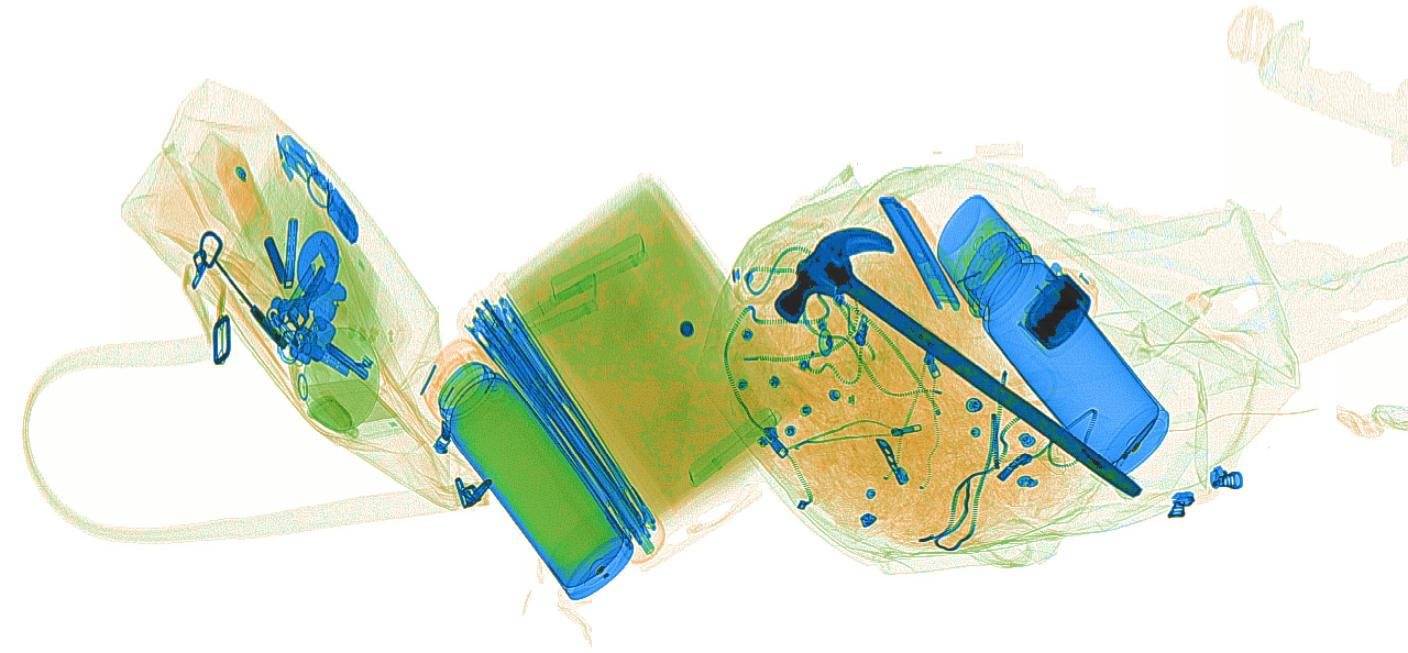USBFlashDisk: (278, 133, 336, 196), (325, 186, 360, 246)
knife: (875, 191, 973, 316)
